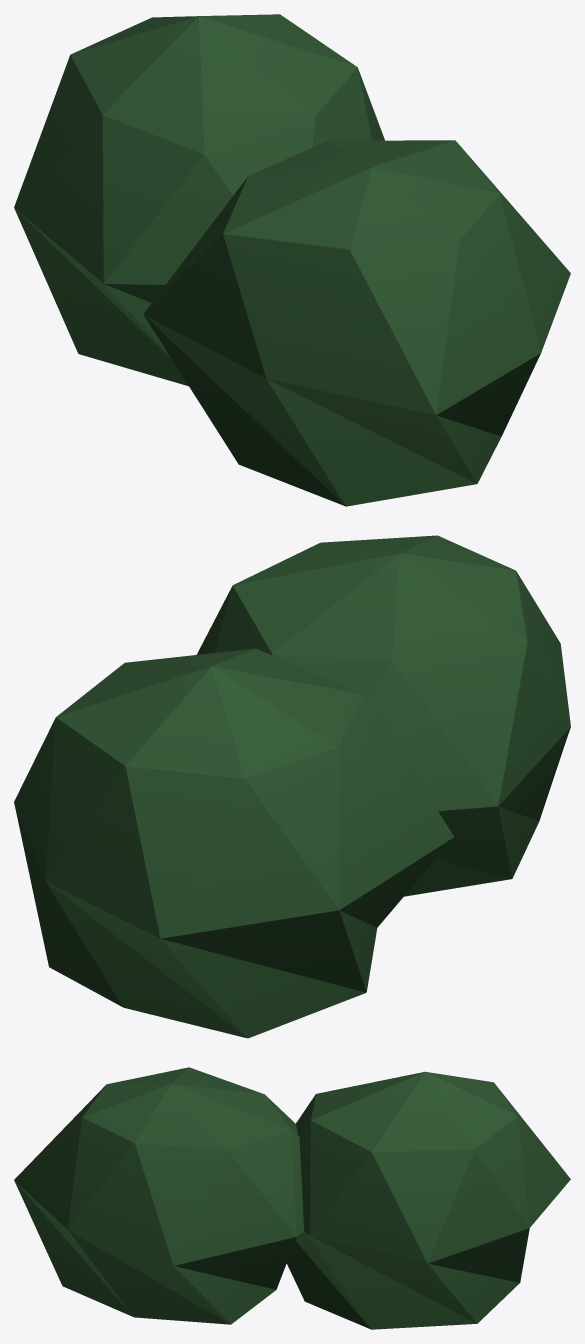
File: moita_cerca_viva.glb
3 renders of one model, top to bottom at view 1: azimuth 30°, elevation 25°; view 2: azimuth 150°, elevation 25°; view 3: azimuth 270°, elevation 25°, orthographic. The views are drawn at different scales.
Parts seen in each view (by area): view 1: Malha_0; view 2: Malha_0; view 3: Malha_0.
Boxes of the visible parts, left/top/right/bottom form: Malha_0: left=14, top=14, right=570, bottom=506; Malha_0: left=14, top=535, right=570, bottom=1038; Malha_0: left=14, top=1067, right=570, bottom=1329.
Bounding box in the file's own units: 0.7764 × 0.6493 × 1.45.
